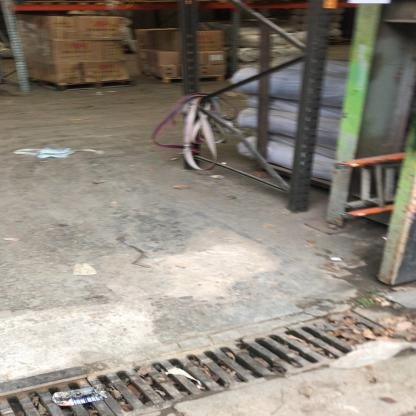vertical_damage: (13, 50, 29, 72)
